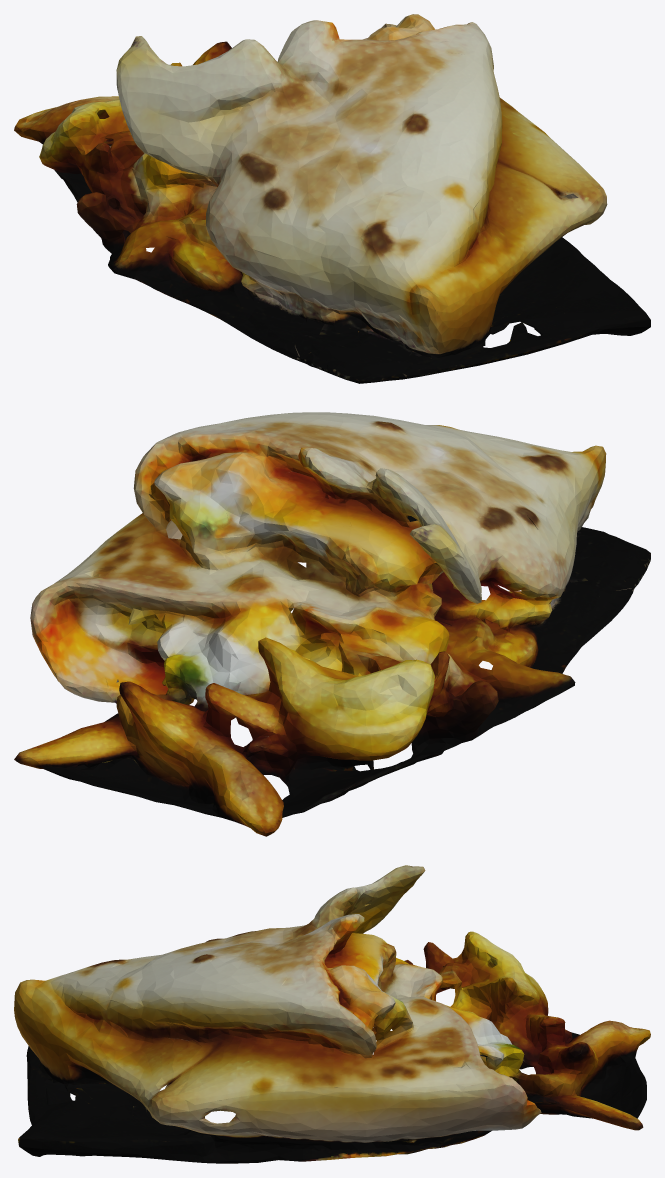
The model's file is item-3d-fc7366c9-70a2-4d2e-97b4-0652d5847cc5.glb.
3 renders of one model, top to bottom at view 1: azimuth 30°, elevation 25°; view 2: azimuth 150°, elevation 25°; view 3: azimuth 270°, elevation 25°, orthographic. The views are drawn at different scales.
Visible parts, largest first — view 1: world; view 2: world; view 3: world.
Boxes of the visible parts, box(x1,y1,x2,y2) form: world: box(14, 14, 650, 383); world: box(14, 412, 650, 836); world: box(14, 865, 650, 1163).
Size of the model in its own units: 0.641 by 0.3281 by 1.
1 material, 1 textured.
